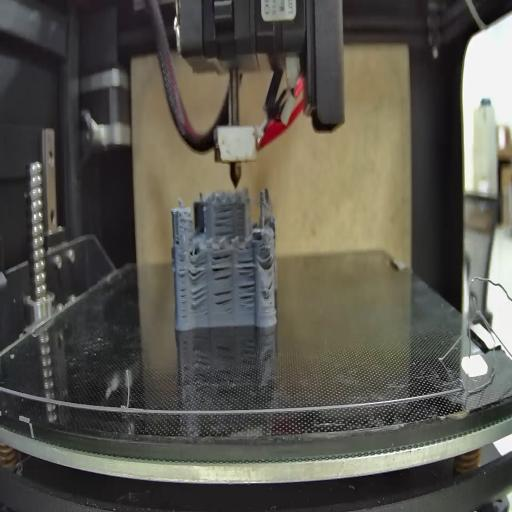cracks: (212, 249, 234, 282), (214, 204, 236, 237), (179, 255, 187, 321), (189, 284, 206, 312), (188, 256, 207, 281), (240, 282, 258, 308), (214, 288, 234, 311), (238, 257, 258, 278), (263, 251, 275, 268), (264, 278, 273, 299), (175, 232, 182, 246)
